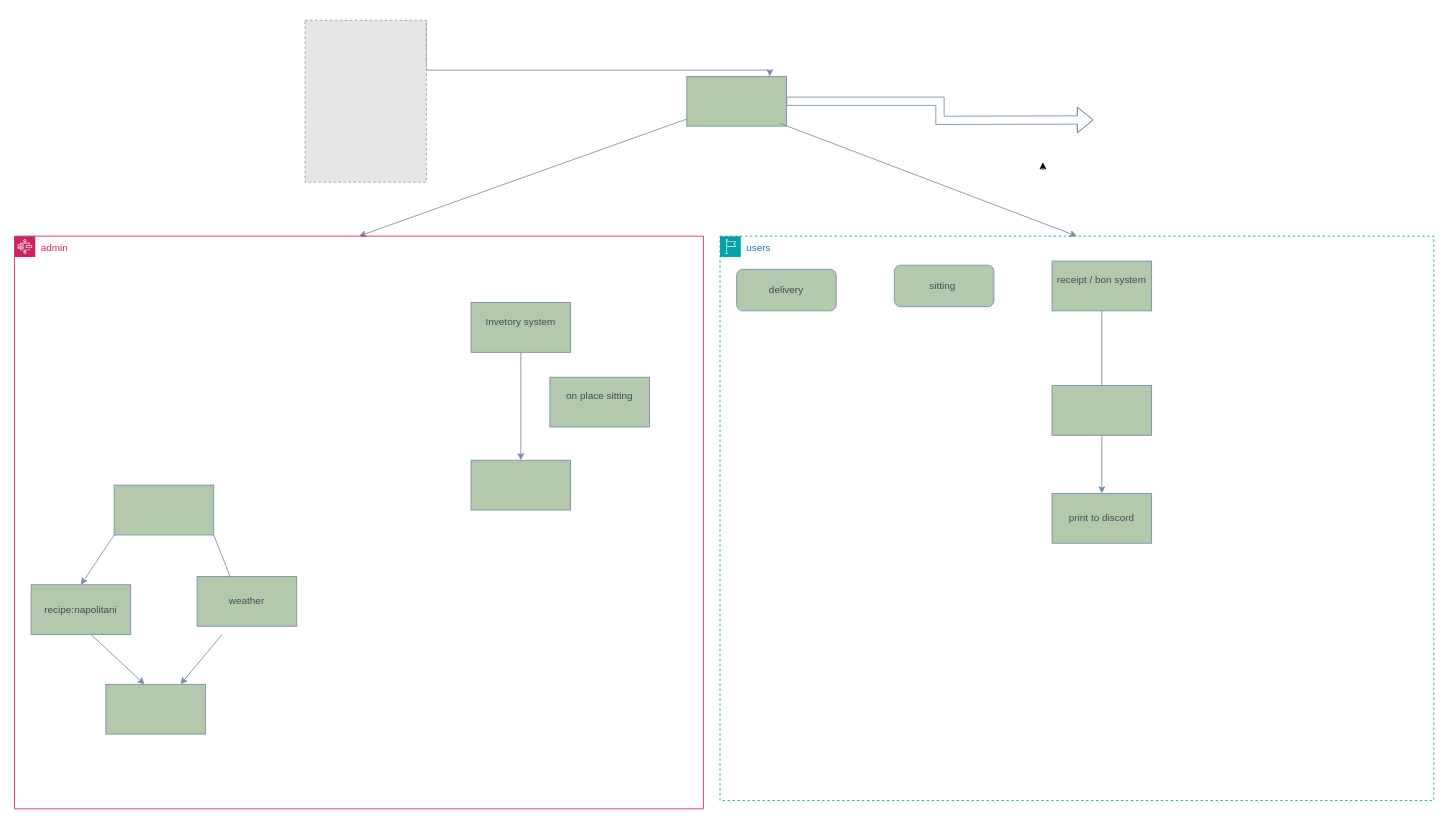
Some shapes in this 1448 by 823 pixel diagram are drawn without their labels. Grey dashed boxes stand in for pictures. The shapes that lost their labels are listed below. From the top down, each one's centre as x and y in pixels, then its label:
At point 736,101: "Project Moshe Pizza Yavne Main!".
At point 1101,410: "timer".
At point 520,484: "supplyers".
At point 163,509: "Real Life Ingerdients check".
At point 155,709: "Math".
